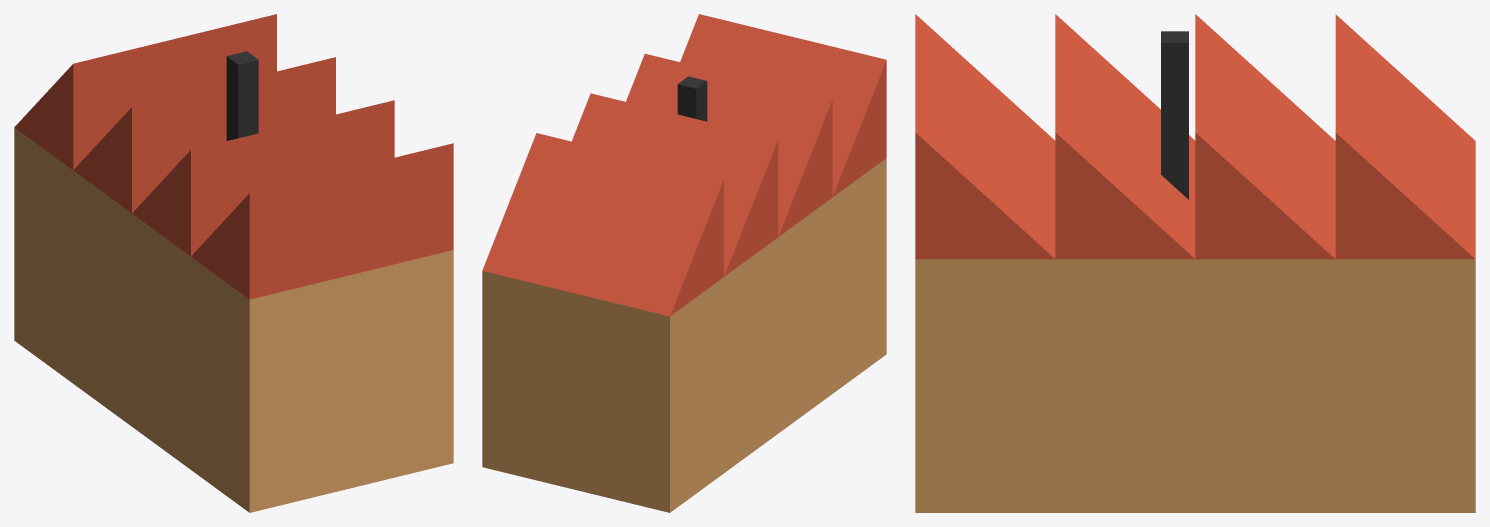
Rendered from oil_gen.glb.
3 views of the same model, side by side, from view 1: azimuth 30°, elevation 25°; view 2: azimuth 150°, elevation 25°; view 3: azimuth 270°, elevation 25° (orthographic). The views are drawn at different scales.
Parts seen in each view (by area): view 1: Cube, Cube.001, Cube.002, Cube.003, Cube.004, Cube.005; view 2: Cube, Cube.003, Cube.001, Cube.004, Cube.002, Cube.005; view 3: Cube, Cube.004, Cube.001, Cube.003, Cube.002, Cube.005.
Boxes of the visible parts, bbox=[...] form: Cube: bbox=[14, 127, 453, 512]; Cube.001: bbox=[191, 143, 453, 299]; Cube.002: bbox=[132, 100, 394, 256]; Cube.003: bbox=[14, 14, 276, 169]; Cube.004: bbox=[73, 57, 335, 212]; Cube.005: bbox=[226, 51, 258, 140]; Cube: bbox=[482, 158, 886, 512]; Cube.003: bbox=[482, 133, 723, 316]; Cube.001: bbox=[680, 14, 886, 196]; Cube.004: bbox=[572, 93, 778, 276]; Cube.002: bbox=[626, 53, 832, 236]; Cube.005: bbox=[677, 76, 707, 121]; Cube: bbox=[915, 259, 1475, 512]; Cube.004: bbox=[1195, 14, 1335, 259]; Cube.001: bbox=[915, 14, 1055, 259]; Cube.003: bbox=[1335, 14, 1475, 259]; Cube.002: bbox=[1055, 14, 1195, 259]; Cube.005: bbox=[1161, 31, 1188, 199].
Bounding box in the file's own units: 2 × 3.28 × 4.
